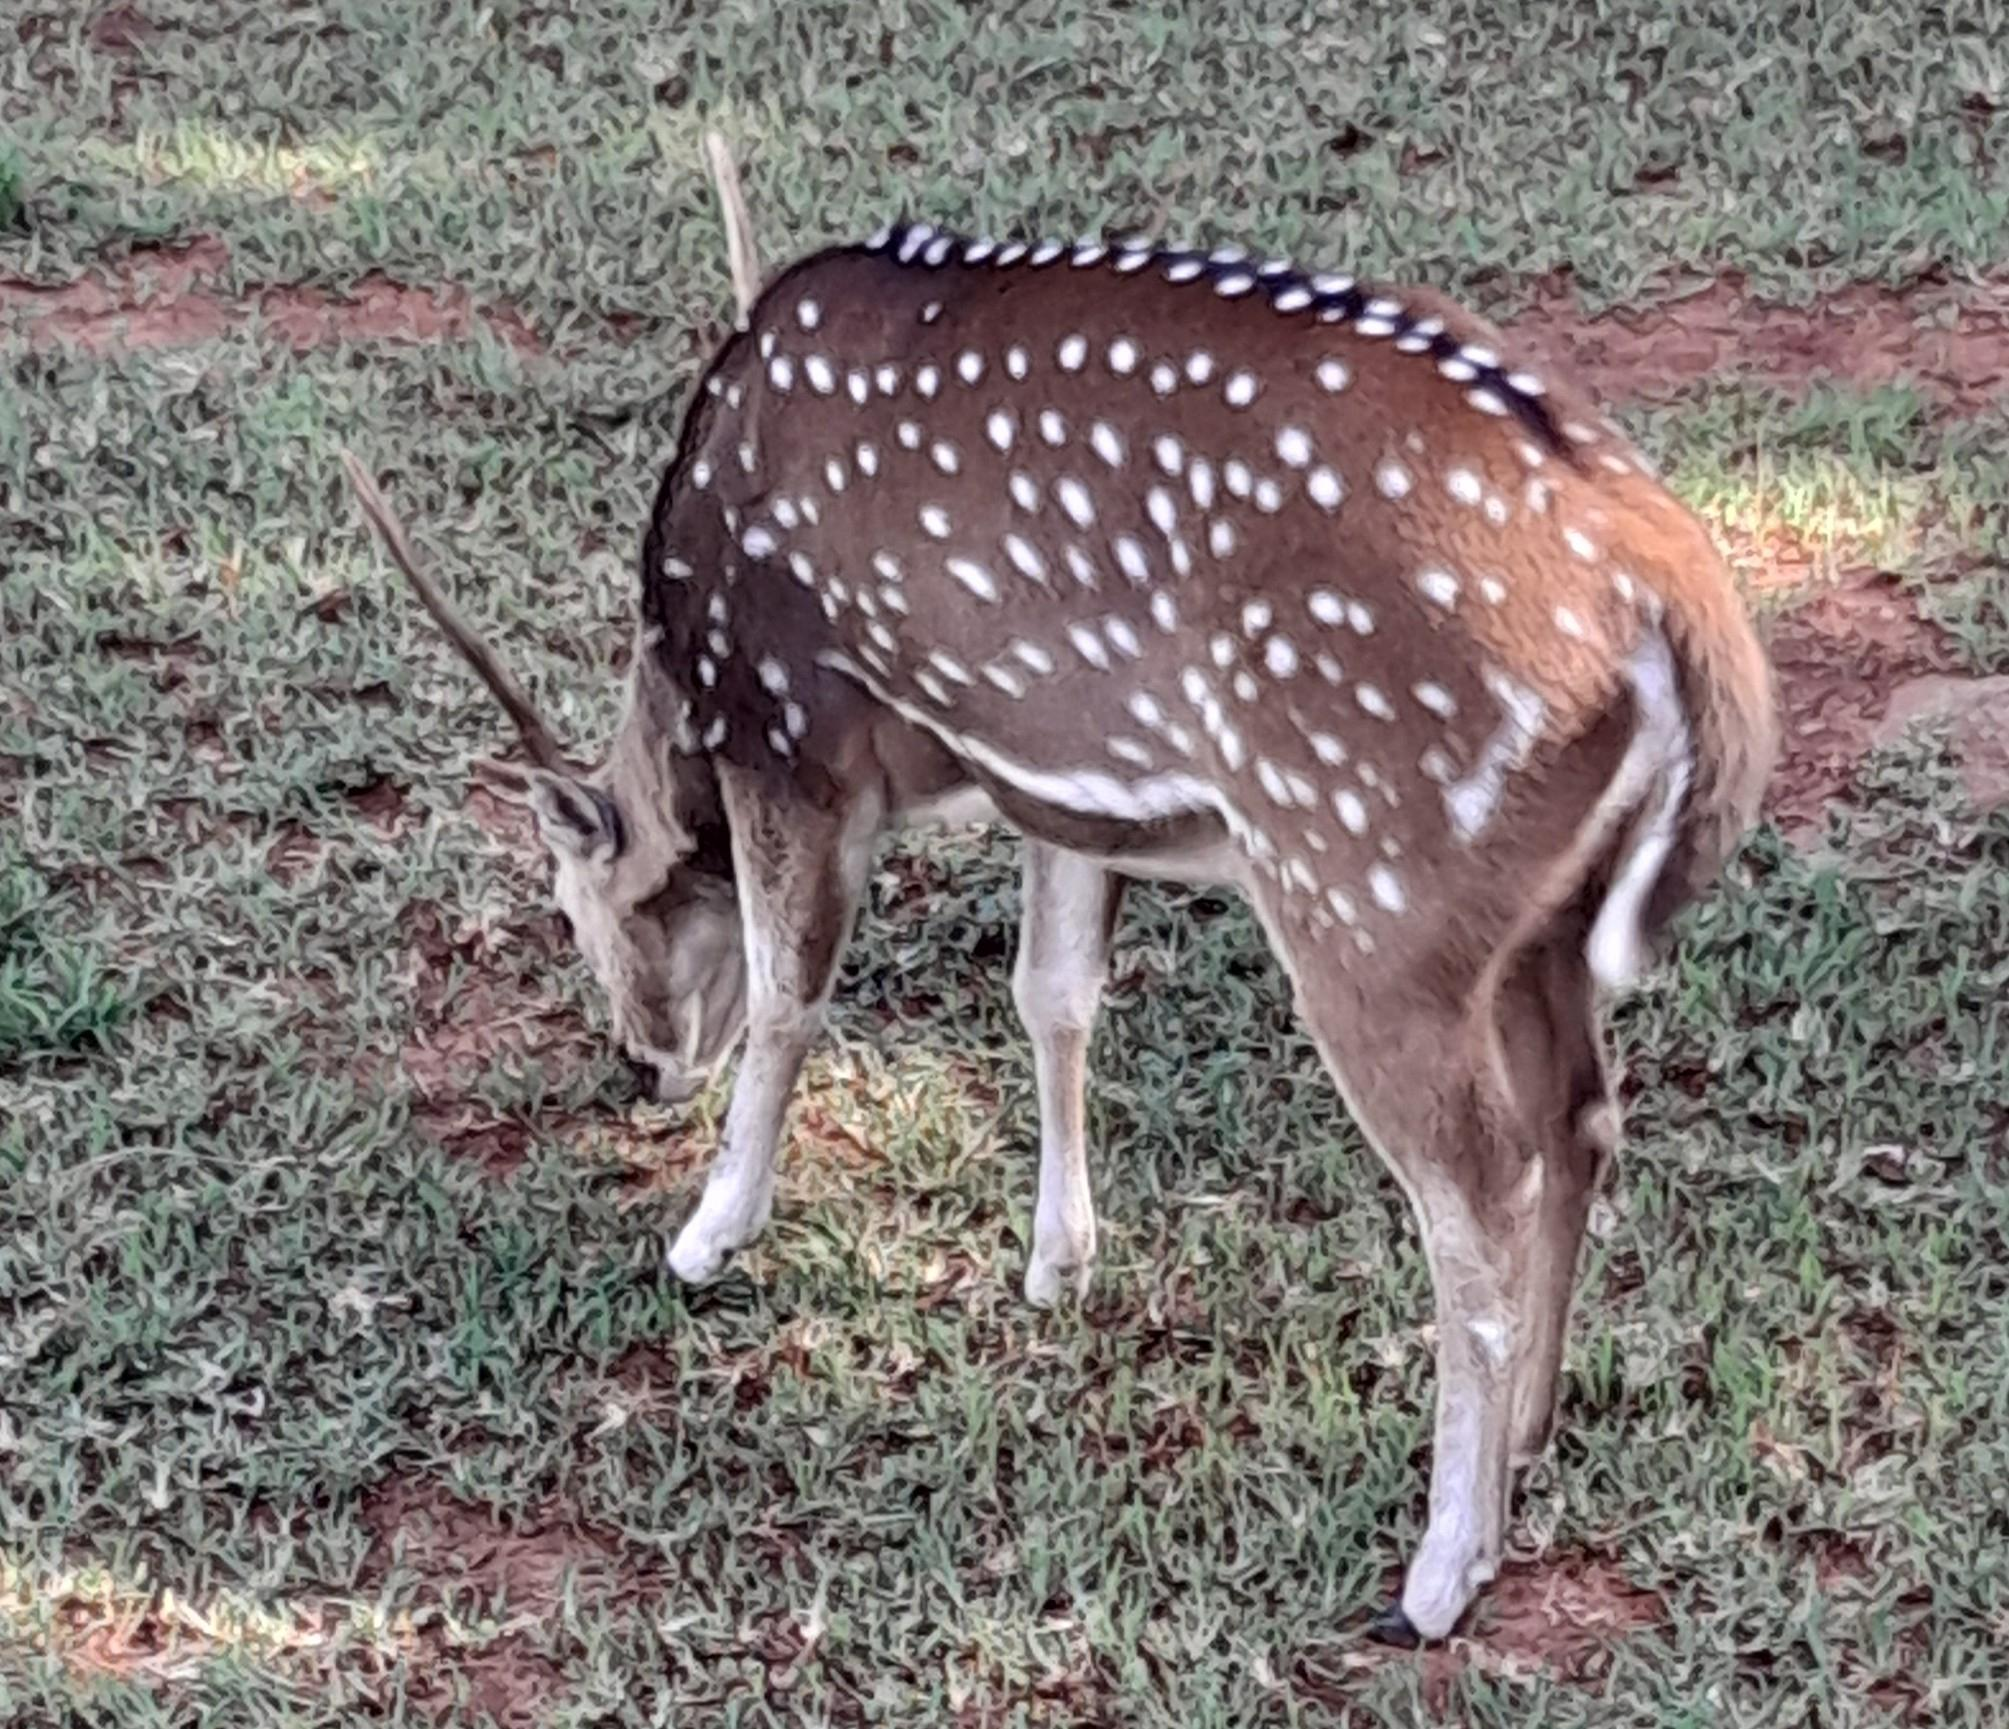Deer: (345, 135, 1782, 1638)
